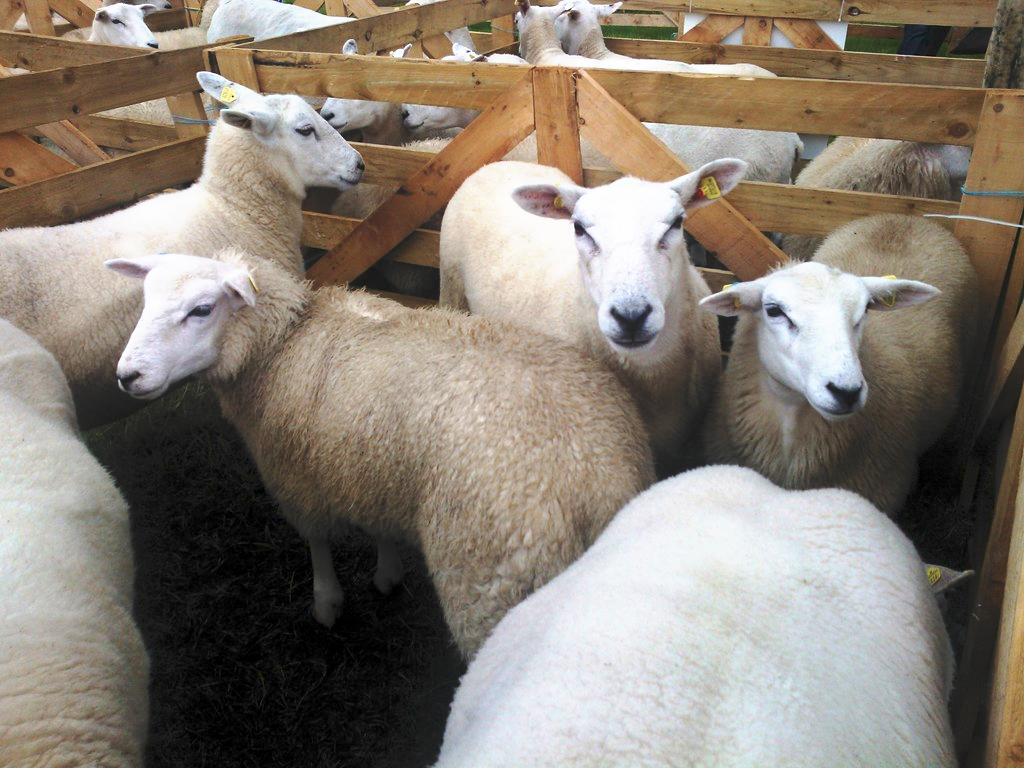Sheep: (114, 250, 674, 639), (428, 466, 964, 762), (4, 74, 365, 433), (446, 156, 732, 466), (701, 214, 975, 524), (3, 314, 151, 760), (512, 0, 782, 228), (404, 39, 572, 143), (57, 3, 172, 82)
